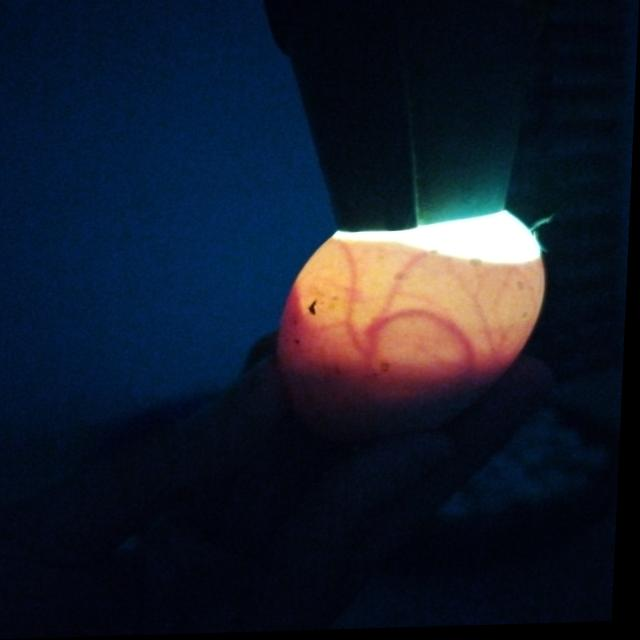Embriao: (285, 363, 508, 448)
